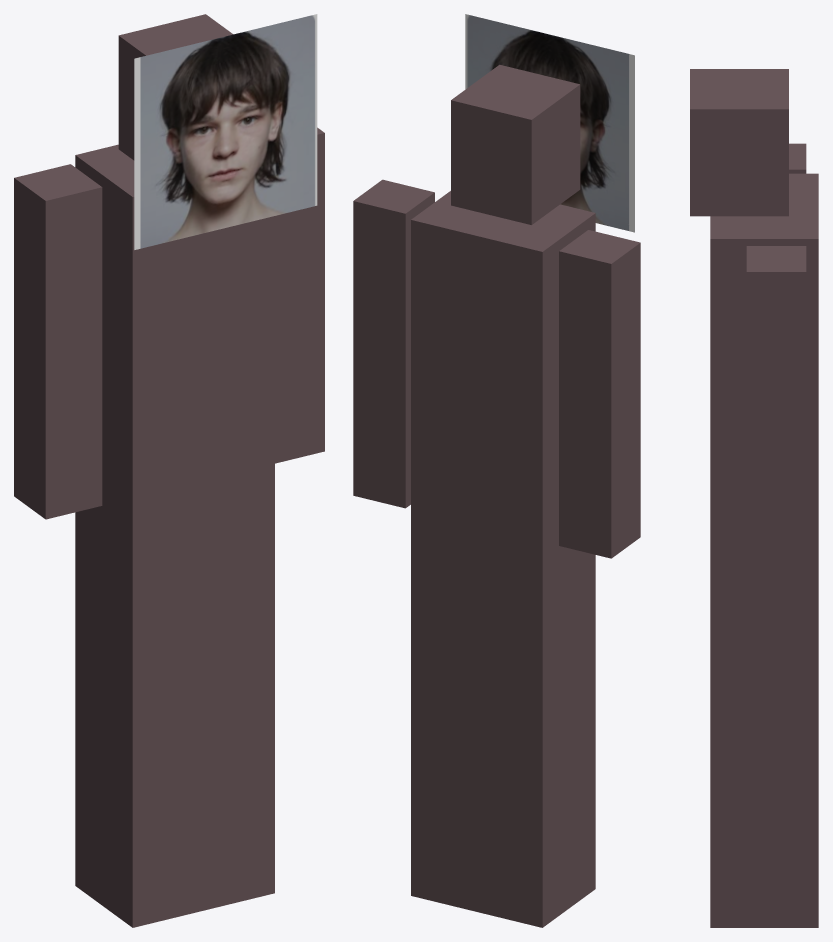
Rendered from Stefan.glb.
3 views of the same model, side by side, from view 1: azimuth 30°, elevation 25°; view 2: azimuth 150°, elevation 25°; view 3: azimuth 270°, elevation 25° (orthographic). The views are drawn at different scales.
Visible parts, largest first — view 1: Stefan; view 2: Stefan; view 3: Stefan.
Part boxes in pixels (<box>): Stefan: <box>14,14,324,927</box>; Stefan: <box>353,14,640,927</box>; Stefan: <box>690,69,818,927</box>.
Size of the model in its own units: 0.5815 by 1.77 by 0.2863.
Materials: 2 (1 with a texture image).
